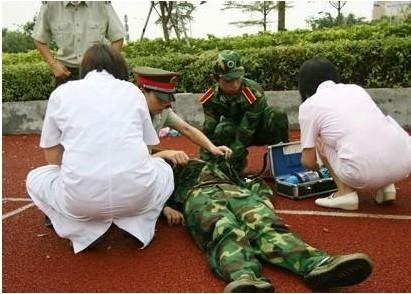falling: (152, 133, 386, 287)
